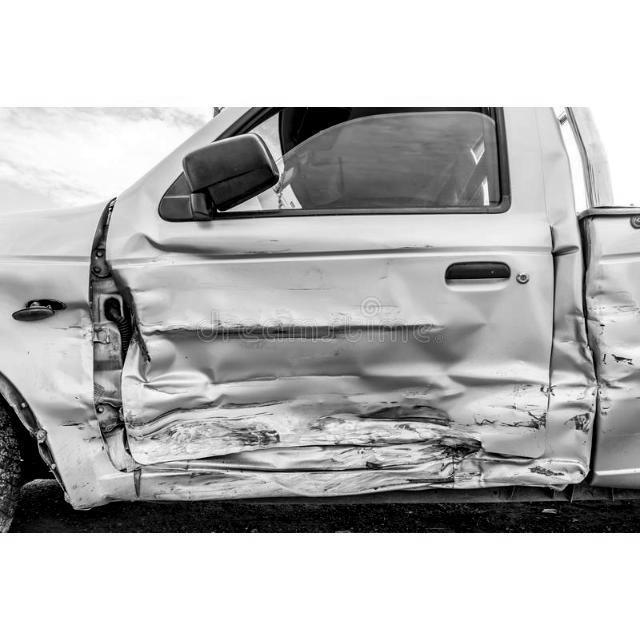doorouter-dent: (119, 185, 534, 500)
fender-dent: (3, 209, 112, 498)
